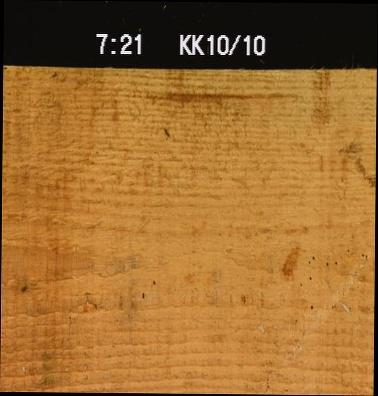small_knot: (18, 283, 30, 293)
